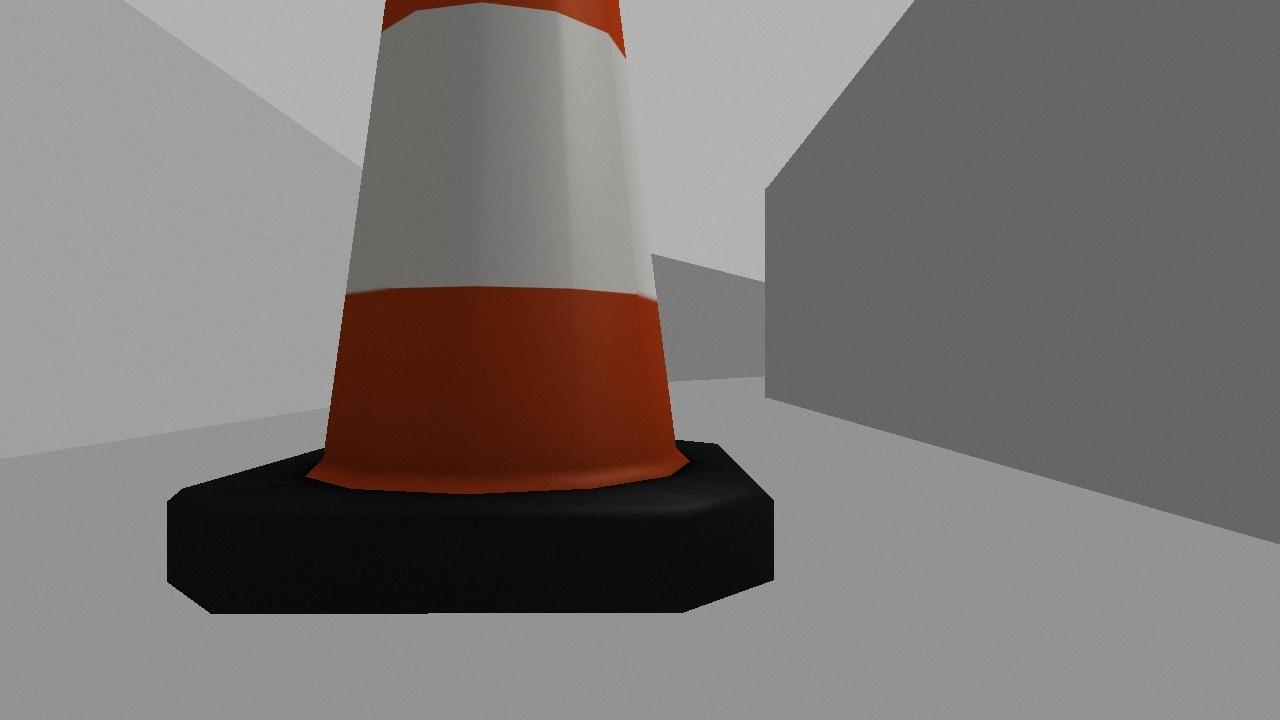cone_barrel: (119, 0, 800, 644)
